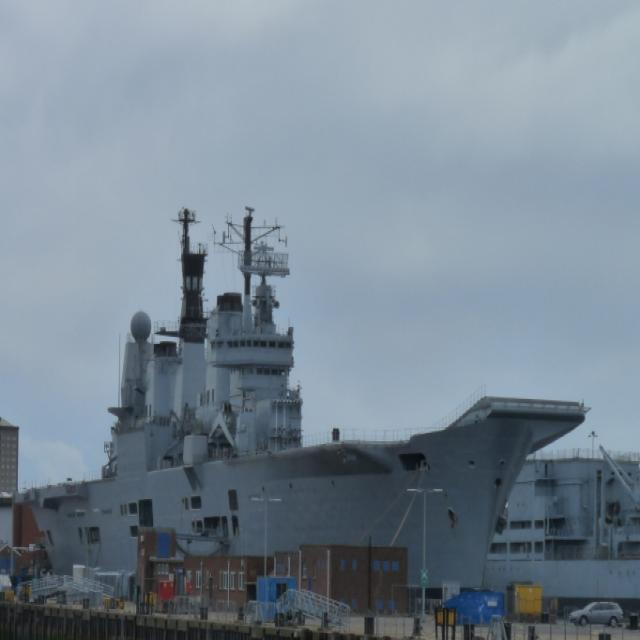Portanaves: (1, 179, 593, 624)
